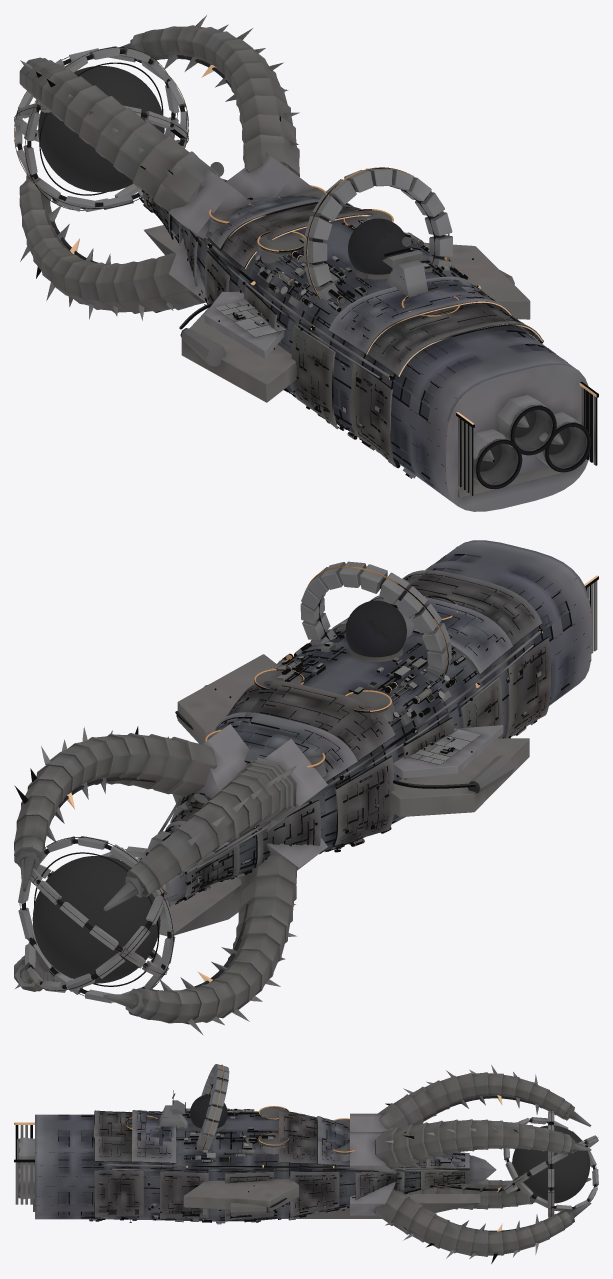
File: black_sun_hero.glb
3 renders of one model, top to bottom at view 1: azimuth 30°, elevation 25°; view 2: azimuth 150°, elevation 25°; view 3: azimuth 270°, elevation 25°, orthographic. The views are drawn at different scales.
Parts seen in each view (by area): view 1: HullBaked; view 2: HullBaked; view 3: HullBaked.
Part boxes in pixels (x1,y1,x2,y2): HullBaked: [14, 15, 598, 511]; HullBaked: [14, 540, 598, 1034]; HullBaked: [14, 1064, 598, 1263].
Bounding box in the file's own units: 405 × 335 × 1077.
1 material, 1 textured.
